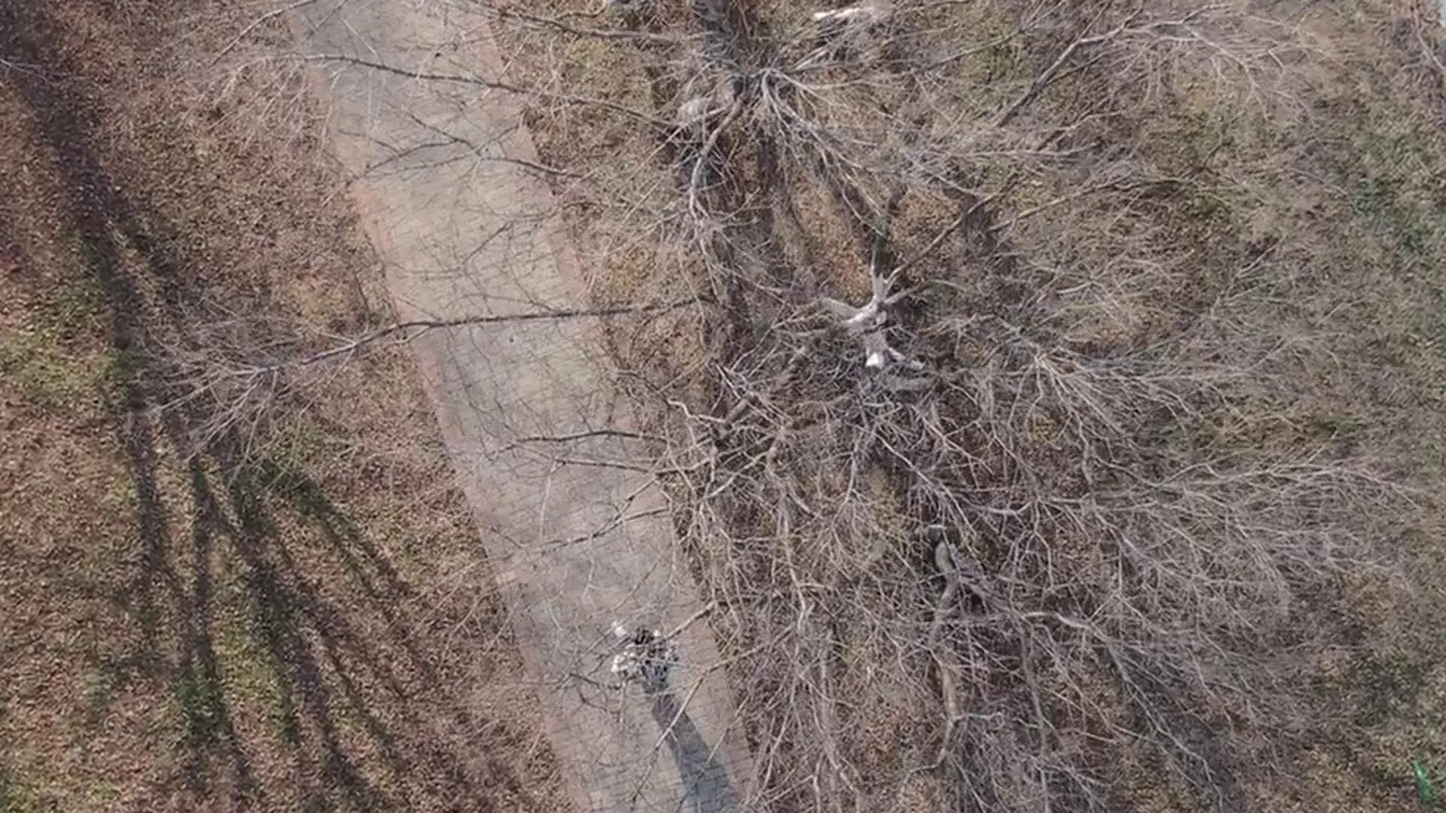human: (564, 604, 621, 686)
